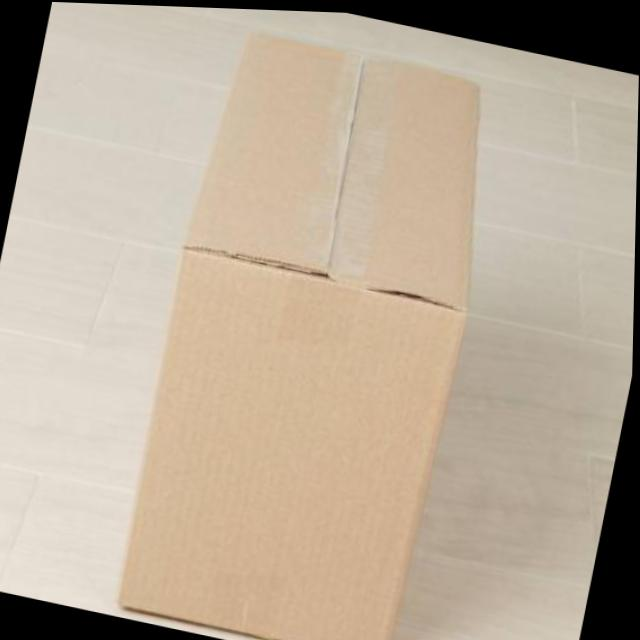box: (104, 3, 530, 640)
